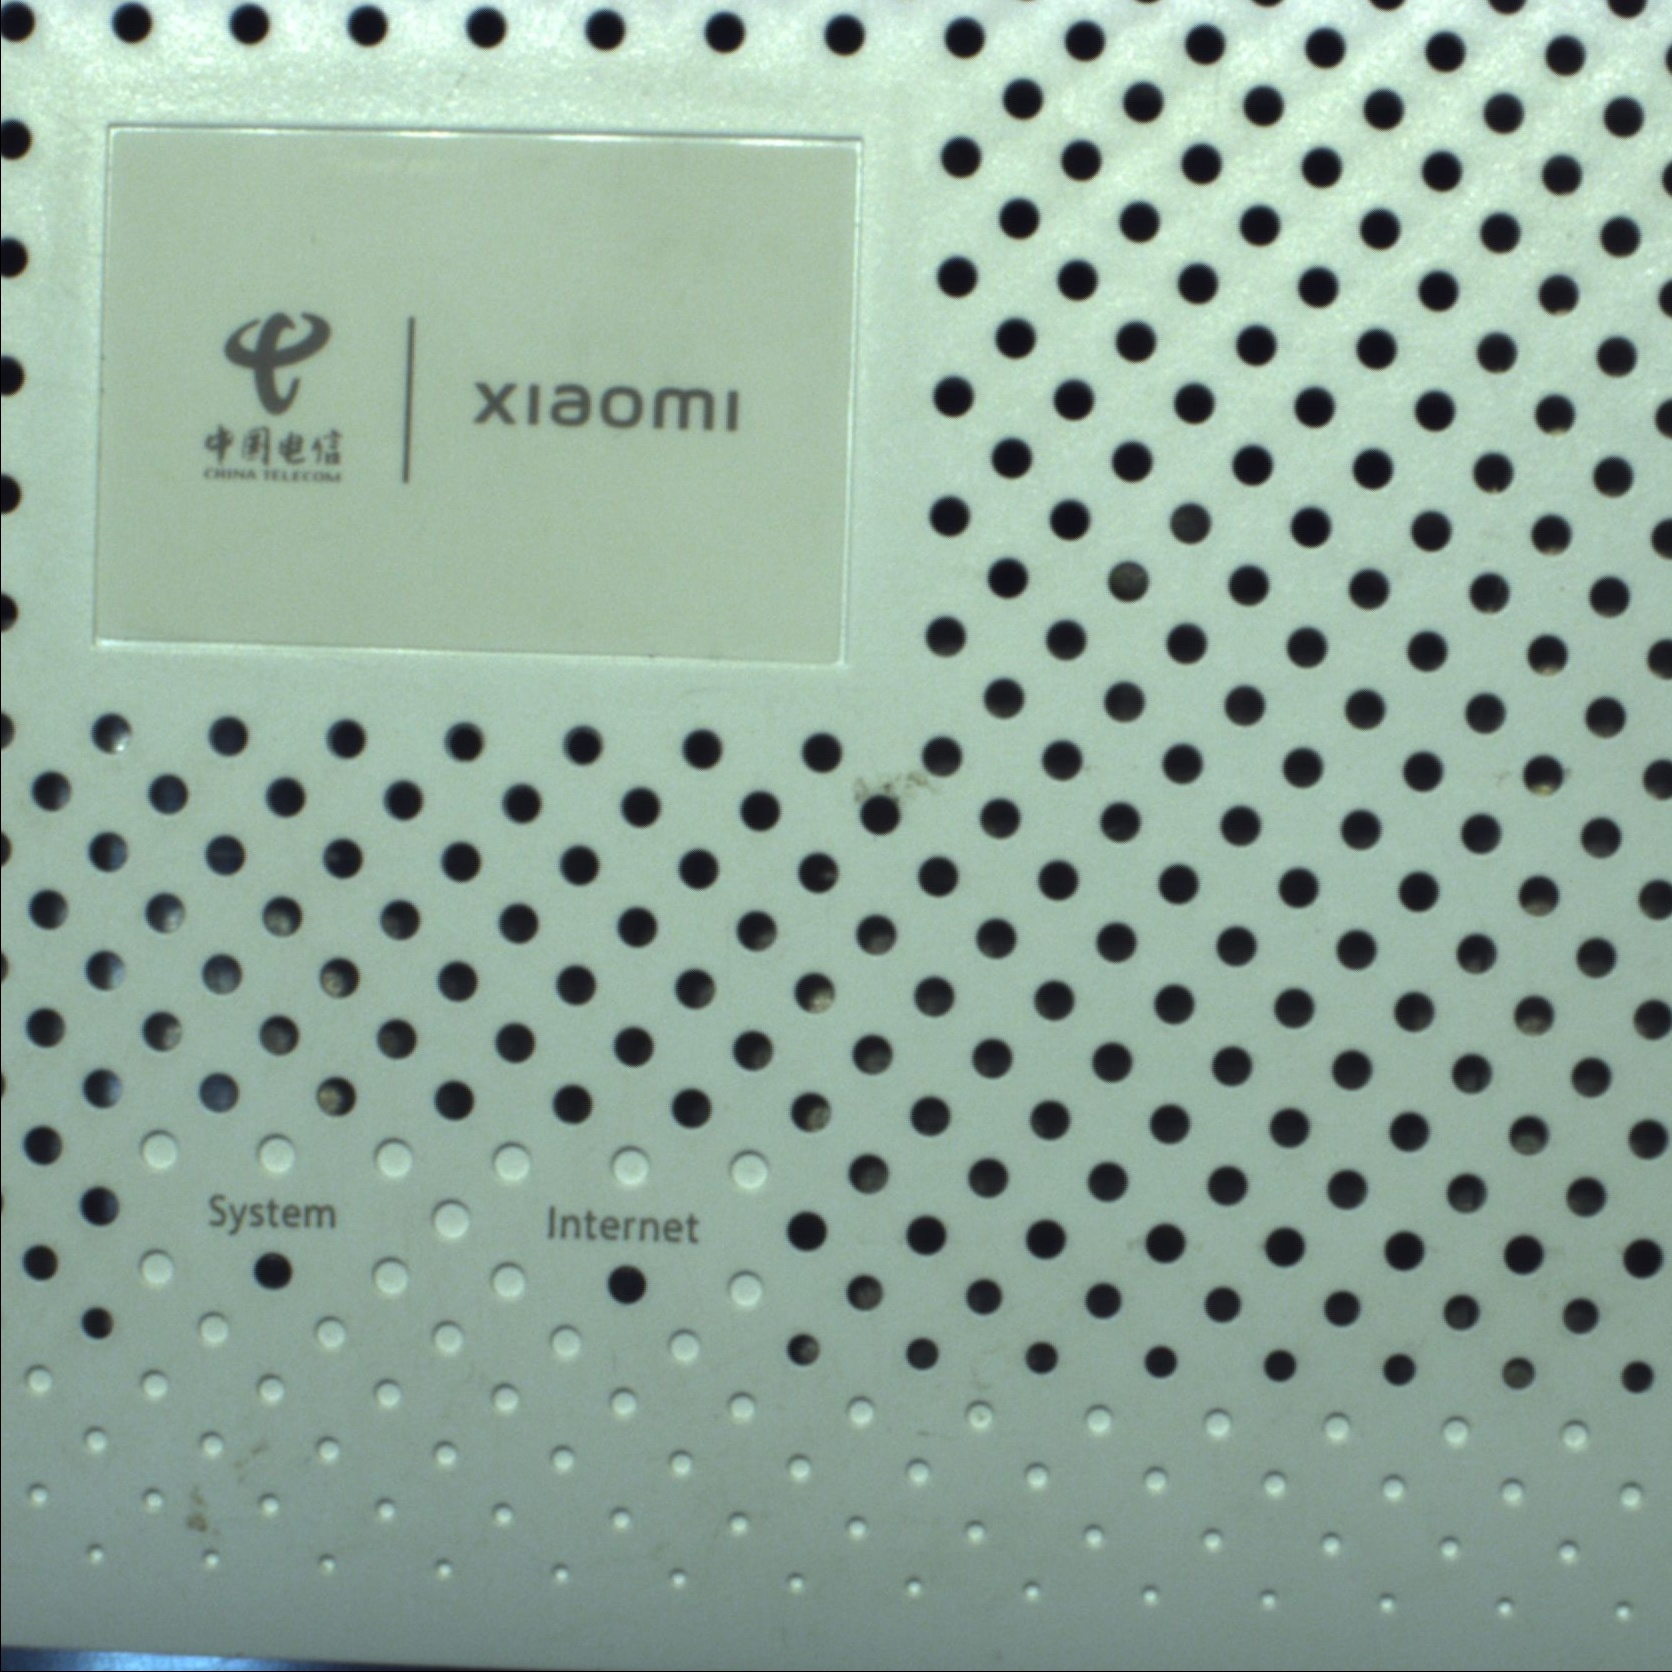MAA_Telecom: (194, 292, 763, 510)
